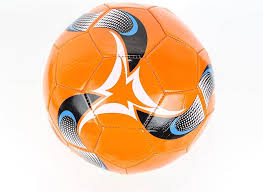football ball: (42, 2, 215, 171)
